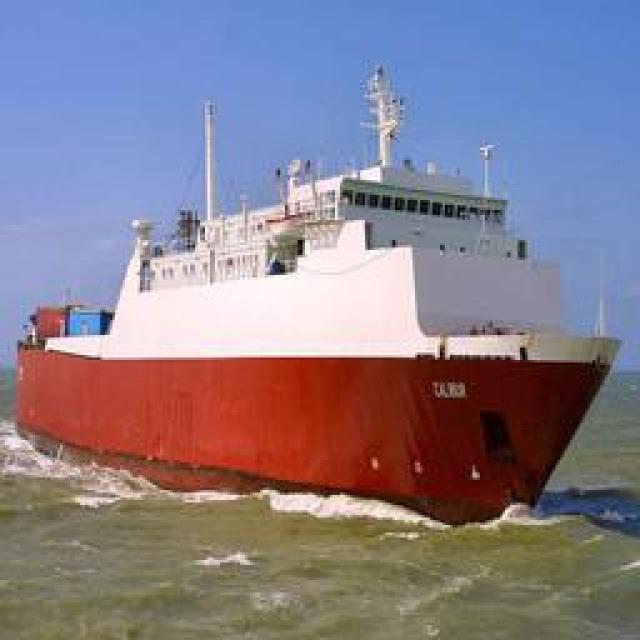CIV_Ship: (18, 90, 618, 525)
